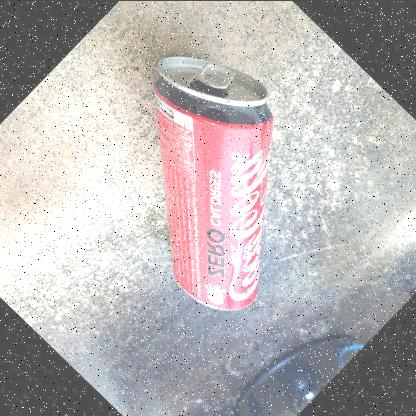Can: (149, 53, 275, 313)
